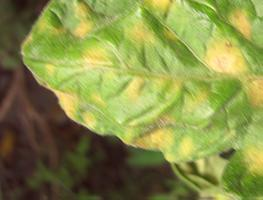Tomato mold leaf: (14, 0, 263, 200)
